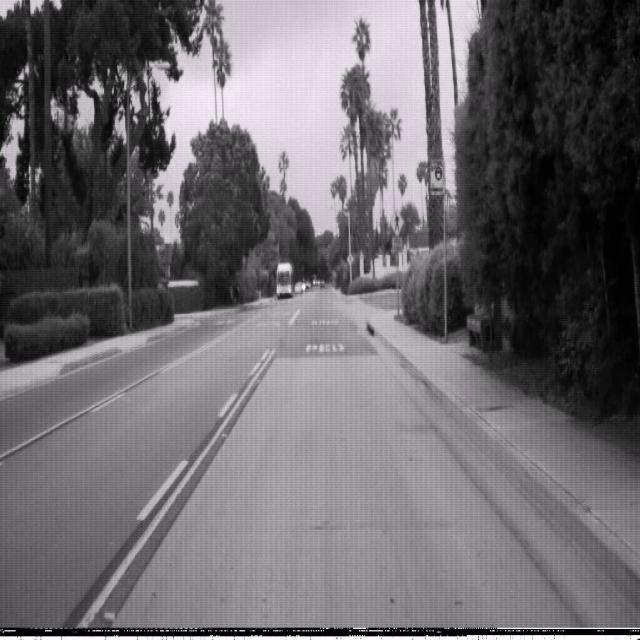pedestrianCrossing: (389, 207, 404, 238)
